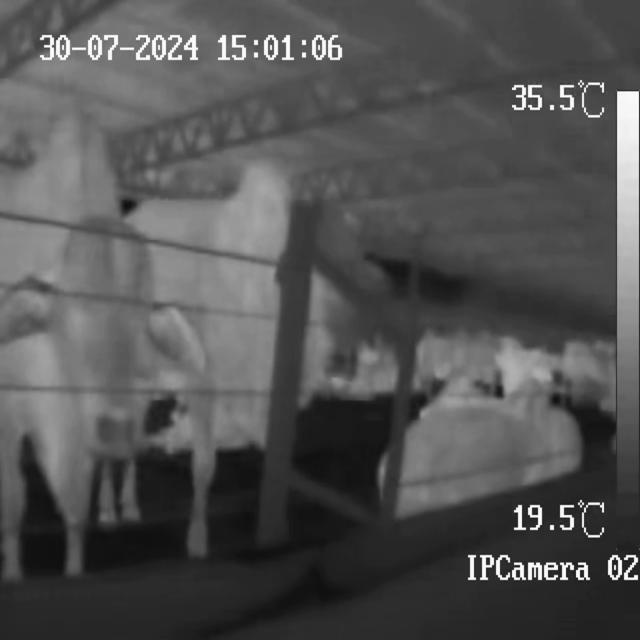head: (49, 209, 160, 467)
